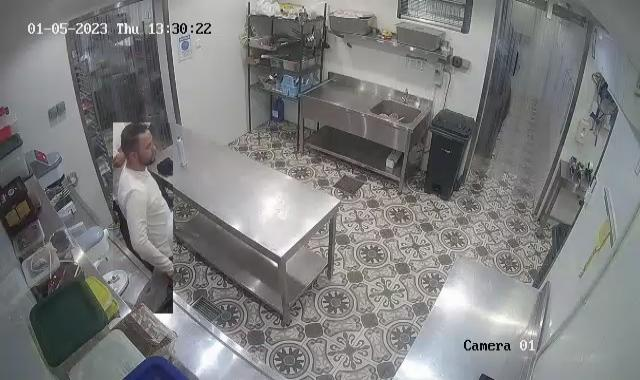no_hairnet: (122, 120, 150, 169)
